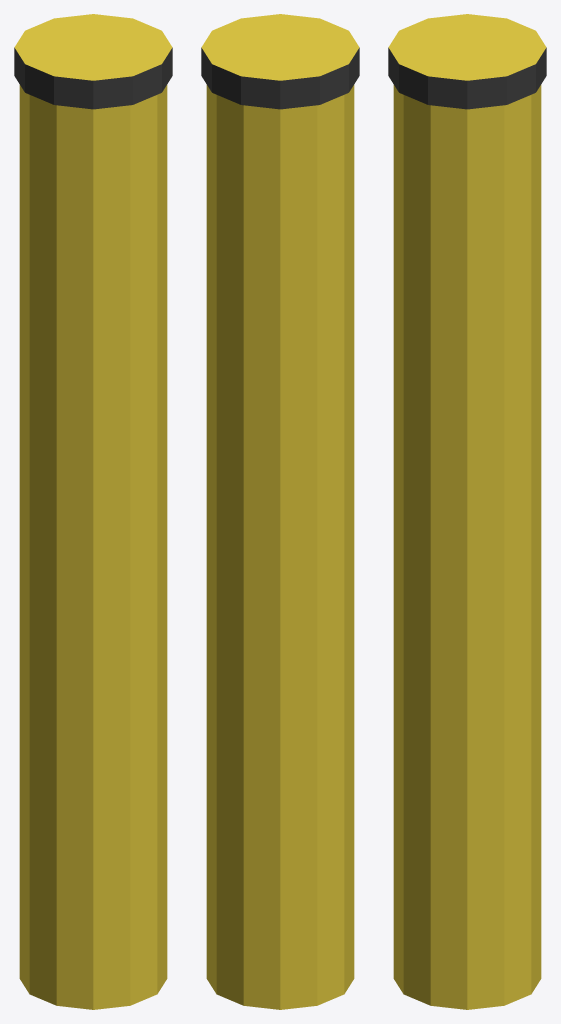
The model's file is bollard_steel_banded.glb.
3 renders of one model, left to right at view 1: azimuth 30°, elevation 25°; view 2: azimuth 150°, elevation 25°; view 3: azimuth 270°, elevation 25°, orthographic.
Parts seen in each view (by area): view 1: bollard_steel_banded; view 2: bollard_steel_banded; view 3: bollard_steel_banded.
Boxes of the visible parts, <box> form: bollard_steel_banded: <box>14,14,172,1009</box>; bollard_steel_banded: <box>201,14,359,1009</box>; bollard_steel_banded: <box>388,14,546,1009</box>.
Bounding box in the file's own units: 0.15 × 0.975 × 0.15.
